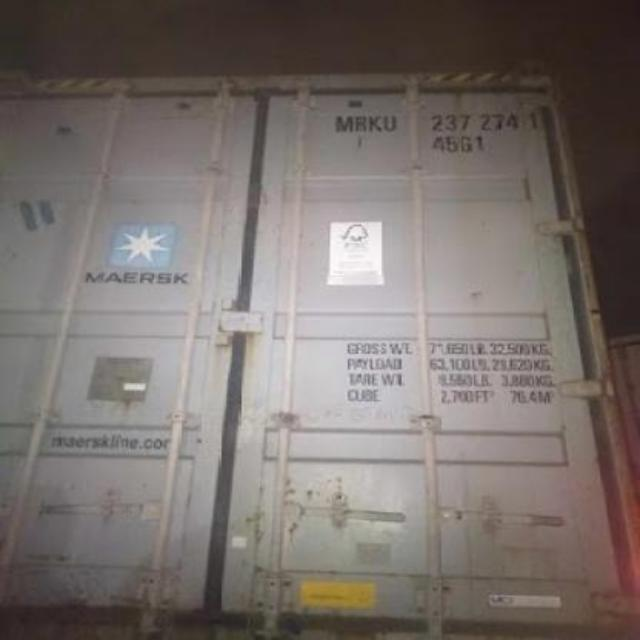1: (524, 111, 542, 132)
2: (478, 112, 494, 134), (431, 112, 444, 134)
3: (444, 111, 458, 132)
4: (506, 111, 522, 131)
7: (456, 112, 474, 132), (492, 111, 506, 132)
K: (366, 114, 382, 132)
M: (334, 112, 356, 132)
R: (354, 114, 368, 134)
U: (382, 112, 400, 136)
